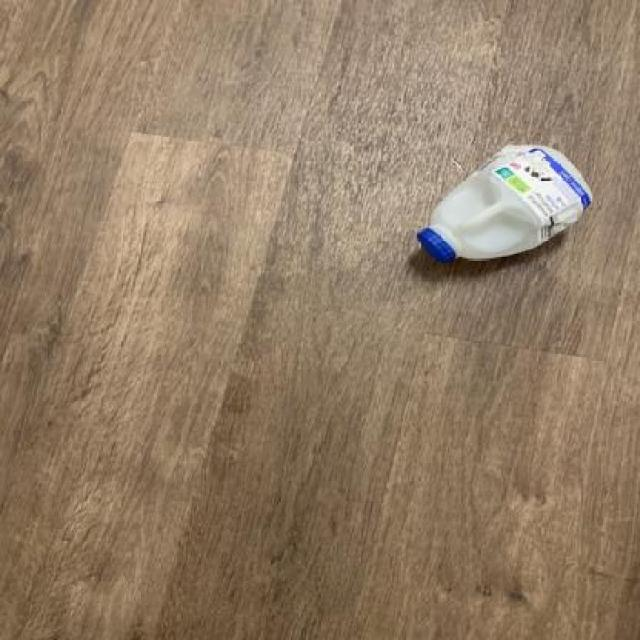trash: (413, 142, 598, 270)
